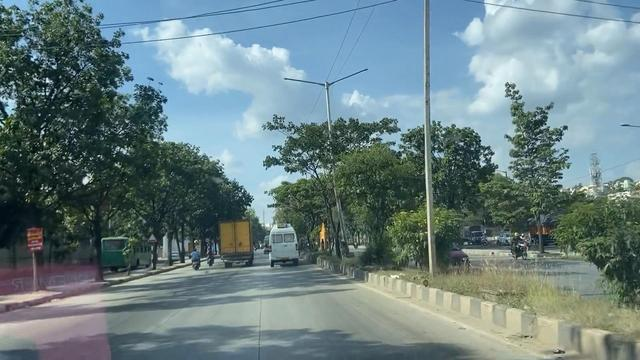HMV: (222, 220, 253, 267), (269, 222, 297, 267)
